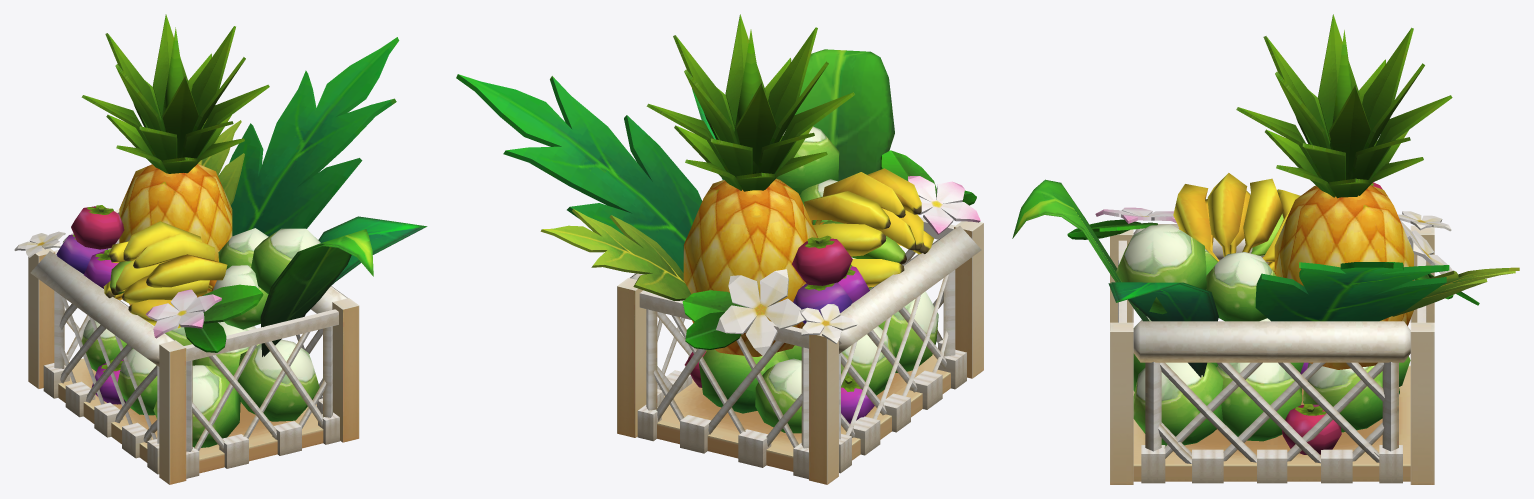
Rendered from my_sunshineresort_01_fruitsbox_01.glb.
3 views of the same model, side by side, from view 1: azimuth 30°, elevation 25°; view 2: azimuth 150°, elevation 25°; view 3: azimuth 270°, elevation 25° (orthographic). The views are drawn at different scales.
Parts seen in each view (by area): view 1: my_sunshineresort_01_fruitsbox_01; view 2: my_sunshineresort_01_fruitsbox_01; view 3: my_sunshineresort_01_fruitsbox_01.
Boxes of the visible parts, x1,y1,x2,y2 form: my_sunshineresort_01_fruitsbox_01: (14,14,427,484); my_sunshineresort_01_fruitsbox_01: (456,14,983,484); my_sunshineresort_01_fruitsbox_01: (1012,14,1519,484).
Bounding box in the file's own units: 0.00525 × 0.00488 × 0.00548.
1 material, 1 textured.
